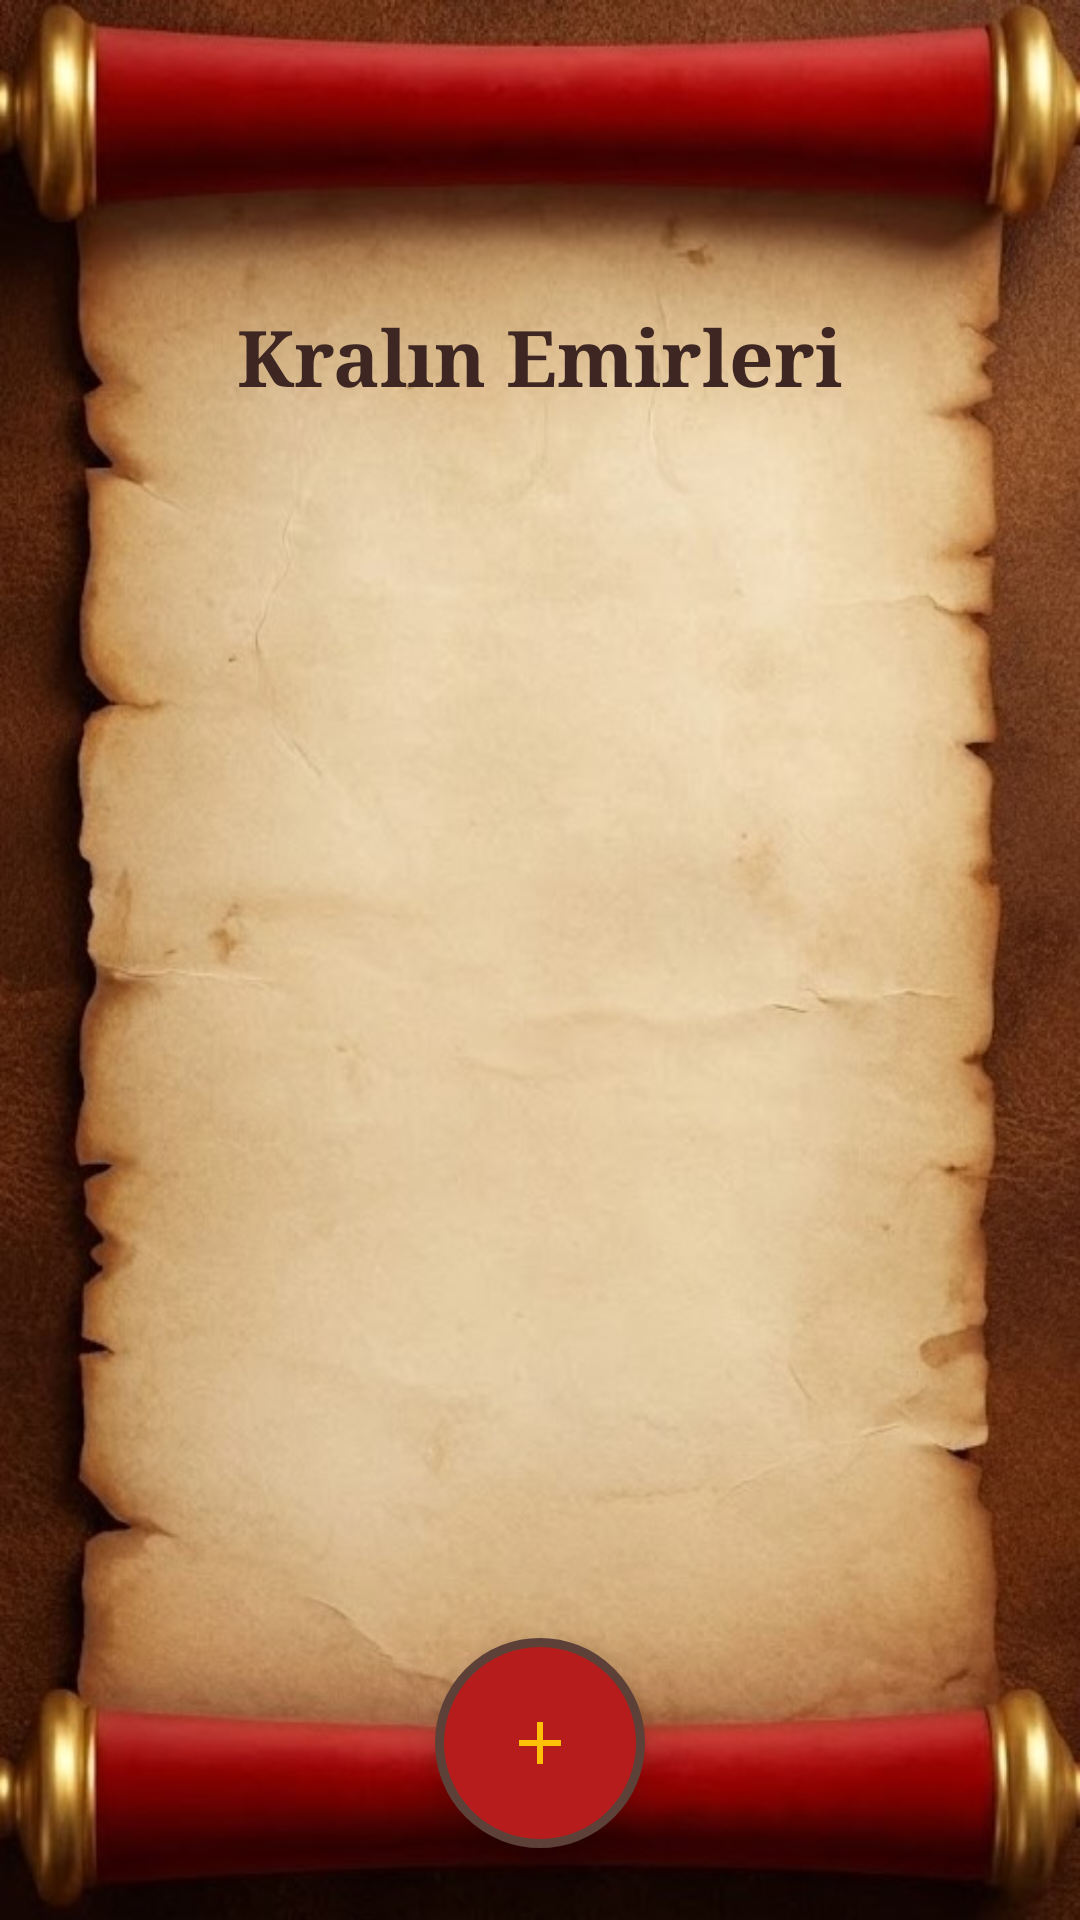

Icon click points for this 1080x1920 phone screenshot, format (x,y):
Yeni Görev Ekle: (540,1743)
